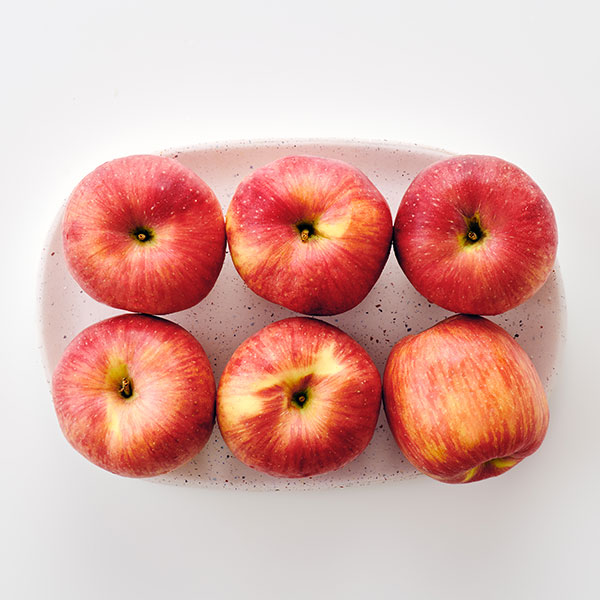apple1: (62, 148, 226, 315)
apple2: (227, 155, 393, 314)
apple3: (394, 153, 559, 314)
apple4: (49, 317, 218, 479)
apple5: (219, 315, 383, 479)
apple6: (384, 314, 549, 484)
